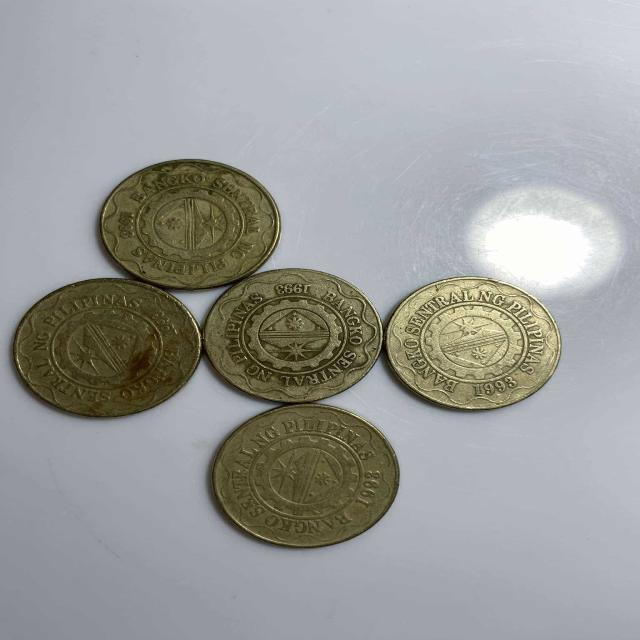5_Old_Back: (213, 409, 397, 536), (21, 279, 187, 415), (103, 164, 283, 286), (205, 274, 378, 397), (393, 277, 554, 409)
